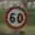limite 60: (4, 4, 27, 29)
